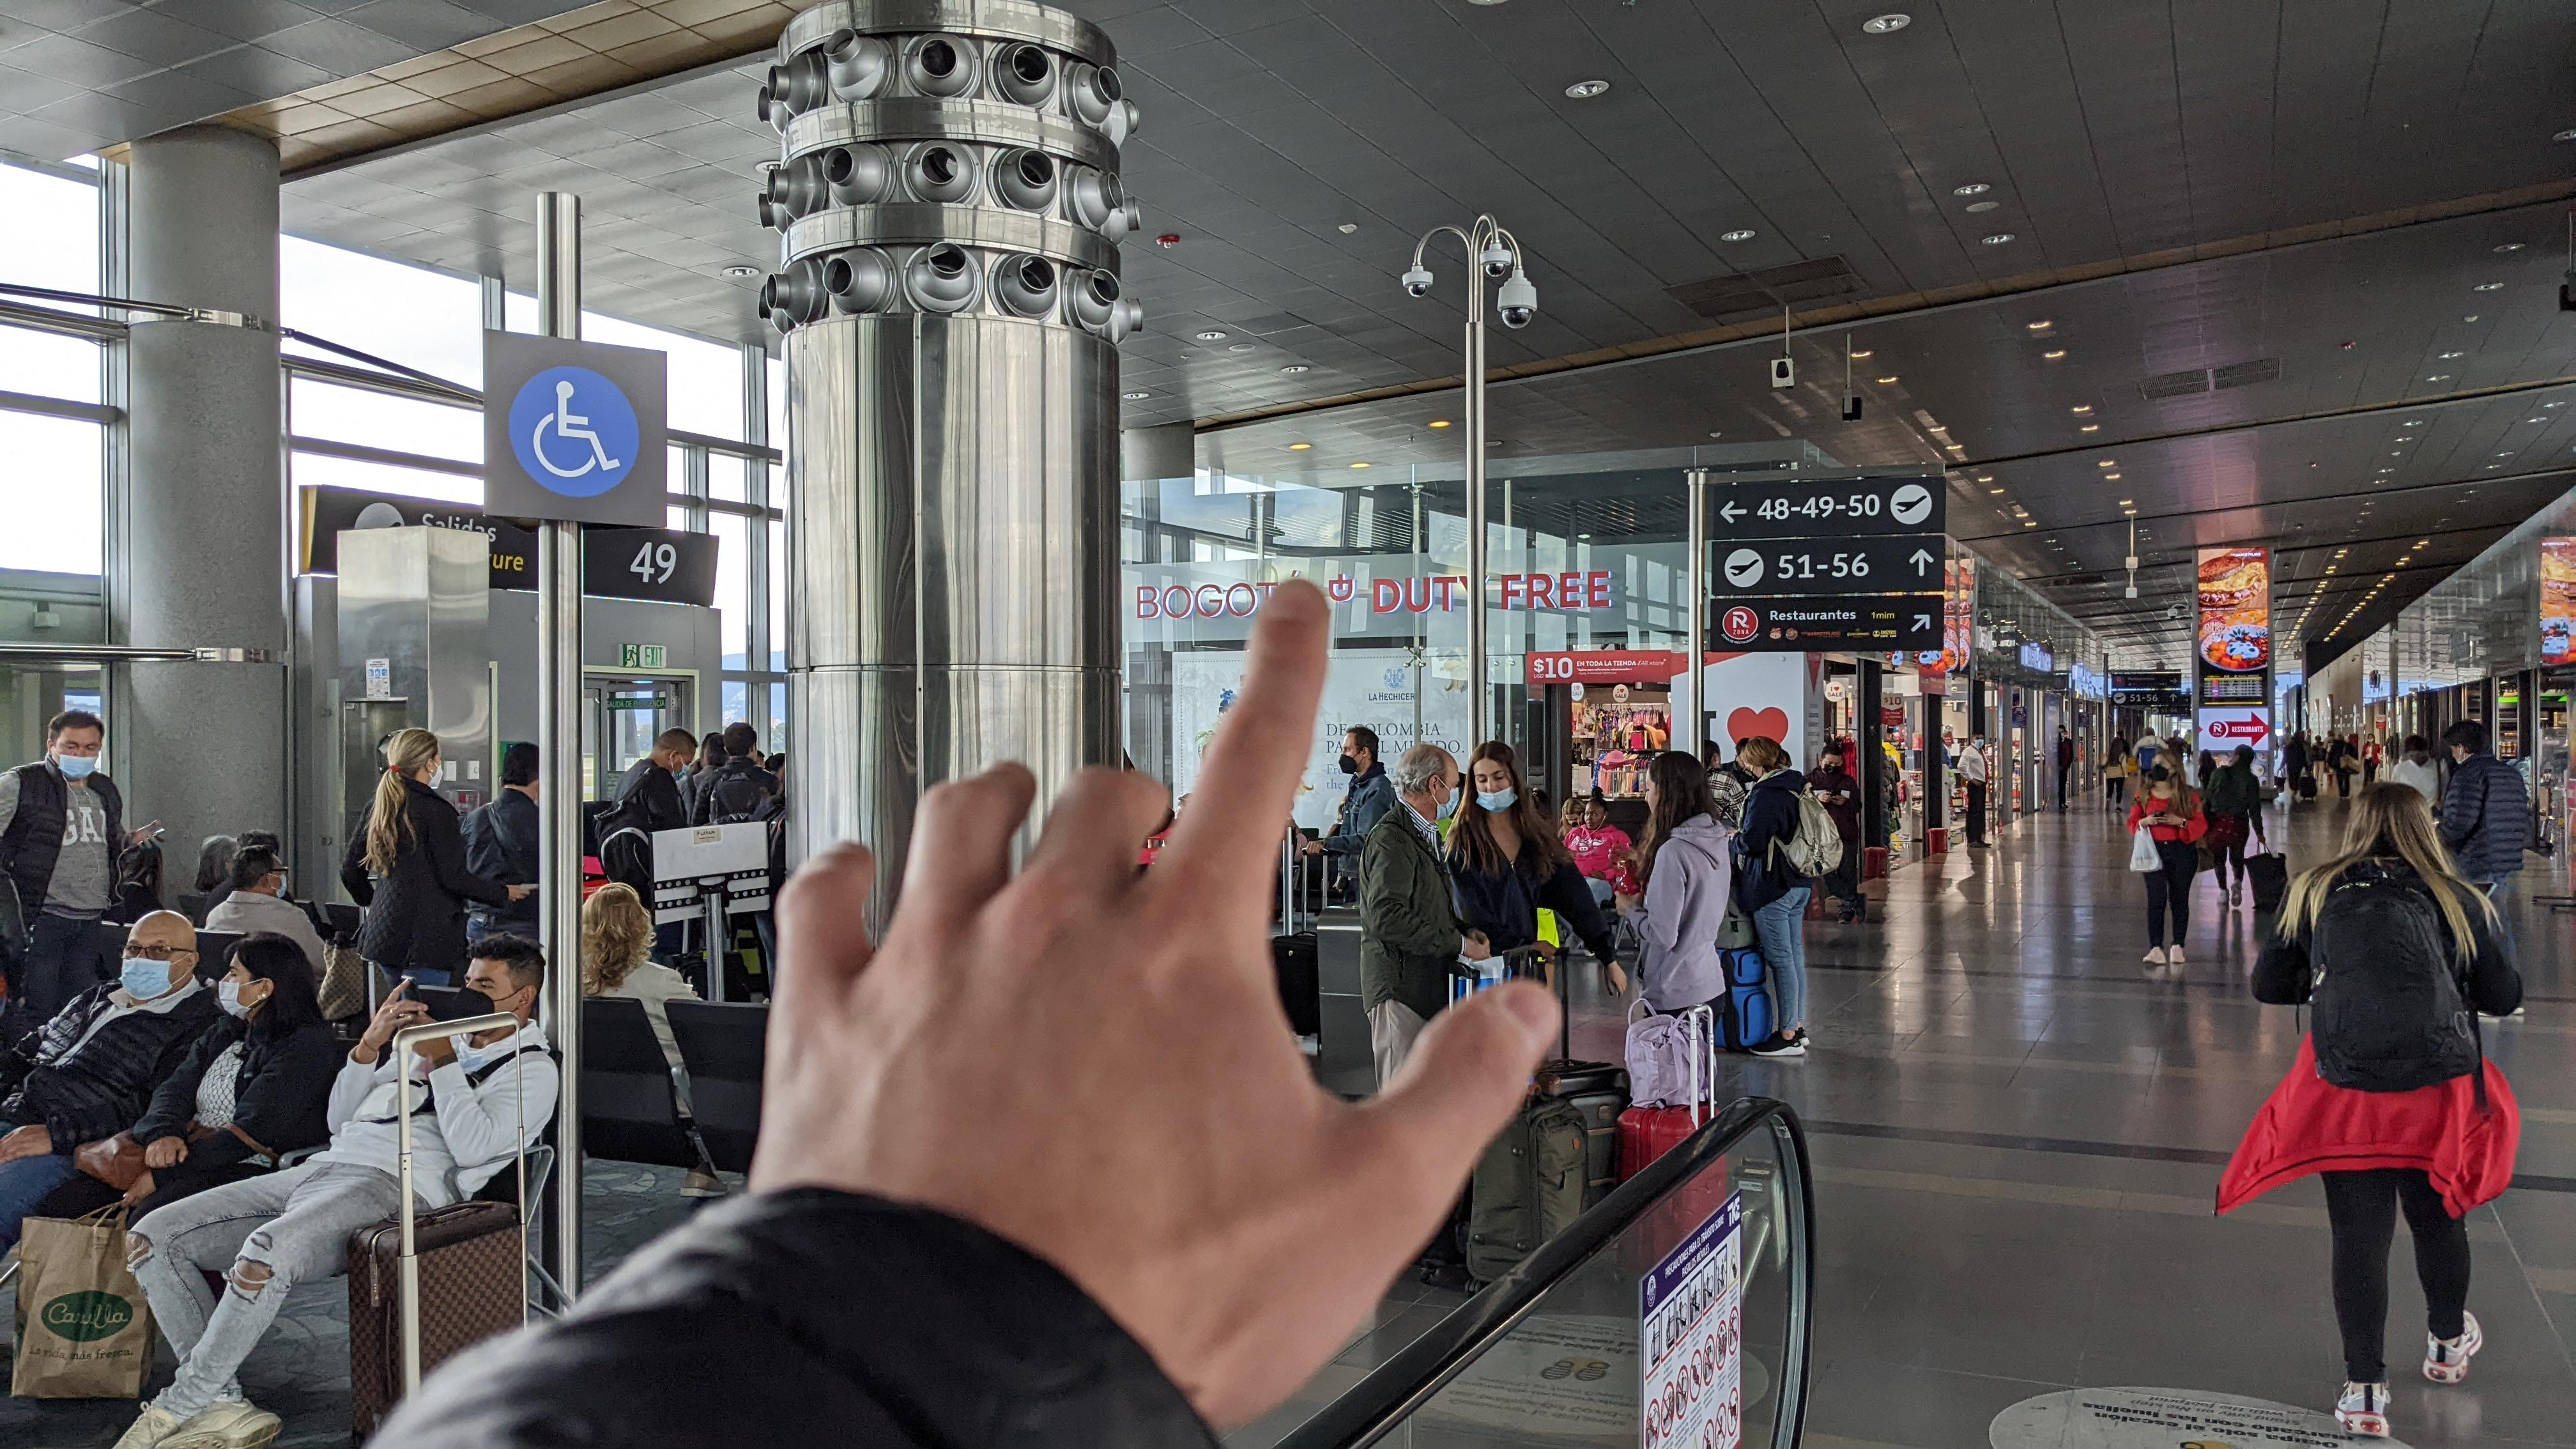airplane symbol: (1895, 492, 1928, 515), (1729, 557, 1760, 577), (2114, 695, 2125, 701)
handicapped symbol: (533, 380, 621, 478)
left arrow: (1720, 499, 1748, 525)
right arrow: (2169, 678, 2178, 685)
up arrow: (1909, 548, 1936, 577), (2169, 694, 2178, 702)
